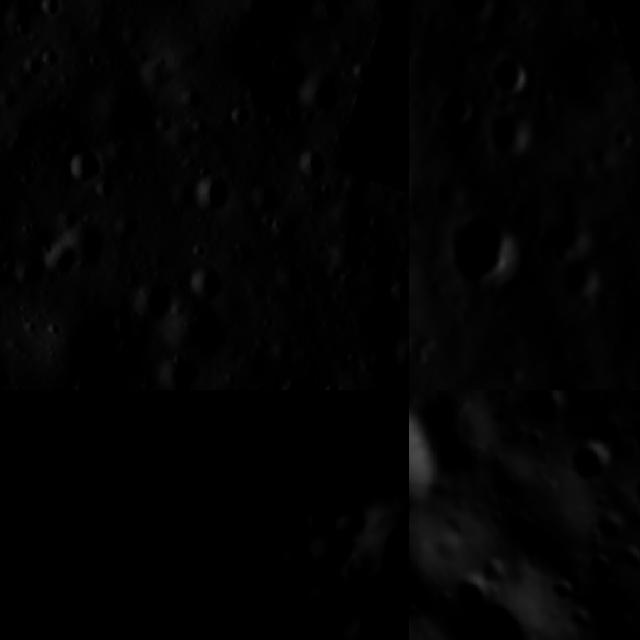crater: (318, 453, 409, 640), (413, 549, 570, 640), (436, 193, 538, 309), (292, 557, 370, 635), (27, 597, 167, 640), (61, 486, 133, 560), (286, 488, 352, 554), (326, 588, 409, 640), (262, 524, 326, 588), (480, 101, 542, 162), (97, 522, 153, 580), (553, 258, 613, 312), (561, 437, 616, 495), (486, 46, 540, 105), (578, 407, 632, 459), (291, 67, 342, 120), (432, 81, 480, 136), (60, 144, 110, 191), (575, 0, 635, 37), (189, 262, 234, 310), (616, 390, 640, 479), (612, 457, 640, 531), (188, 173, 234, 217), (218, 91, 265, 133), (98, 586, 141, 631), (436, 0, 503, 28), (40, 239, 84, 279), (154, 356, 205, 390), (303, 0, 349, 36), (244, 187, 284, 227), (68, 570, 105, 607), (370, 138, 404, 178), (294, 149, 336, 181), (140, 281, 174, 319), (80, 390, 152, 407), (103, 338, 140, 371), (258, 373, 327, 390), (107, 309, 143, 338), (385, 273, 409, 315), (352, 51, 381, 84), (346, 96, 375, 127), (0, 406, 13, 466), (32, 0, 63, 22), (391, 339, 409, 376), (630, 136, 640, 179), (365, 76, 388, 93), (0, 29, 7, 67)
